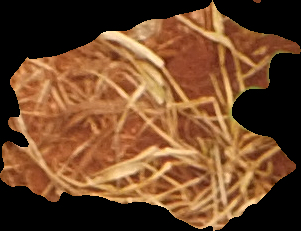soil: (4, 3, 298, 228)
